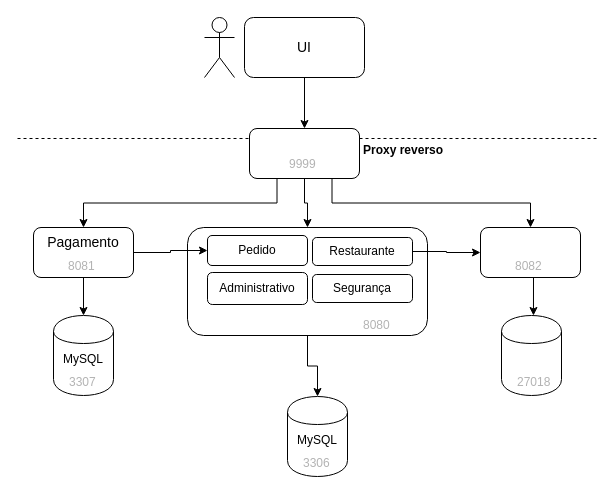
Image size: 616x494. Some labels were removed from this diagram. Each missing label, with the box of its shape:
API Gateway: (248, 128, 360, 178)
Distância: (480, 226, 580, 278)
MongoDB: (500, 314, 562, 396)
Monólito: (186, 226, 428, 336)
